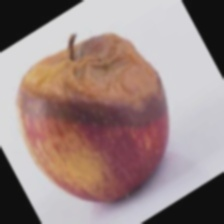apple: (20, 33, 163, 224)
